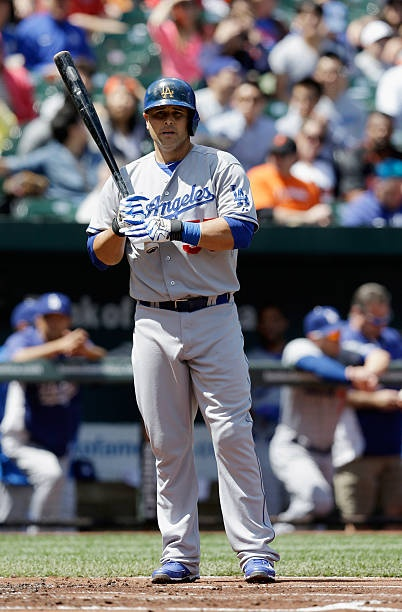bita: (57, 51, 140, 223)
